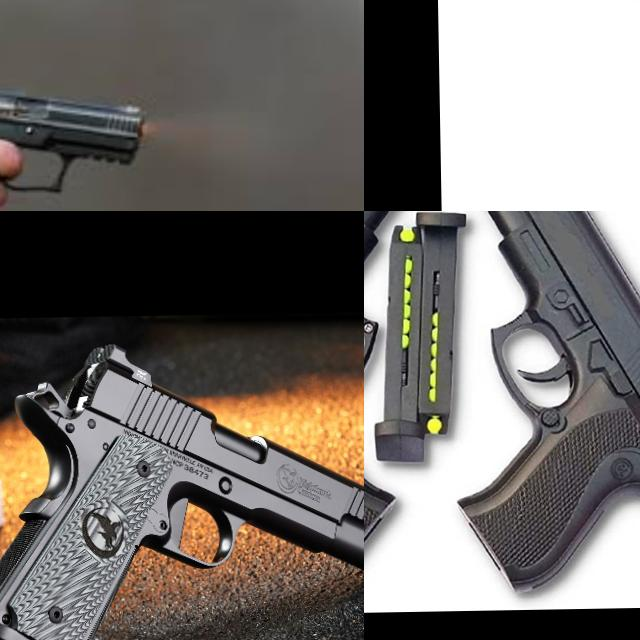handgun: (0, 335, 364, 640), (444, 211, 640, 601), (364, 211, 524, 592), (0, 67, 156, 196), (483, 0, 553, 21)
